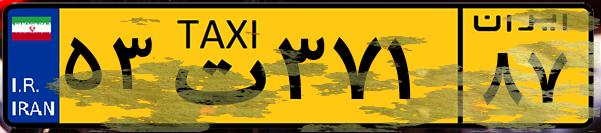1: (385, 28, 445, 110)
3: (270, 28, 330, 110), (110, 28, 158, 98)
5: (57, 26, 110, 100)
7: (330, 28, 385, 110), (525, 38, 570, 115)
8: (475, 38, 525, 113)
ت: (158, 12, 270, 120)
